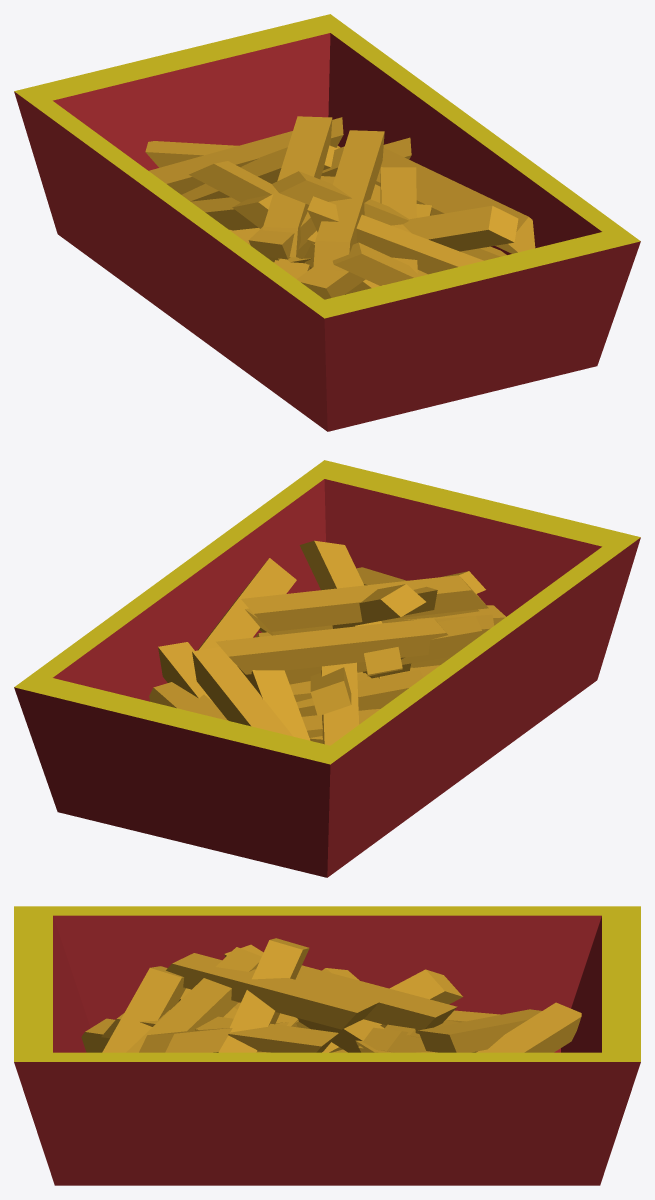
Rendered from frenchFries.fbx.
3 views of the same model, one above another, from view 1: azimuth 30°, elevation 25°; view 2: azimuth 150°, elevation 25°; view 3: azimuth 270°, elevation 25° (orthographic).
Parts seen in each view (by area): view 1: French Fries; view 2: French Fries; view 3: French Fries.
Part boxes in pixels (x1,y1,x2,y2): French Fries: (14, 14, 640, 431); French Fries: (14, 460, 640, 877); French Fries: (14, 906, 640, 1185).
Size of the model in its own units: 1.35 by 0.6263 by 2.3.
